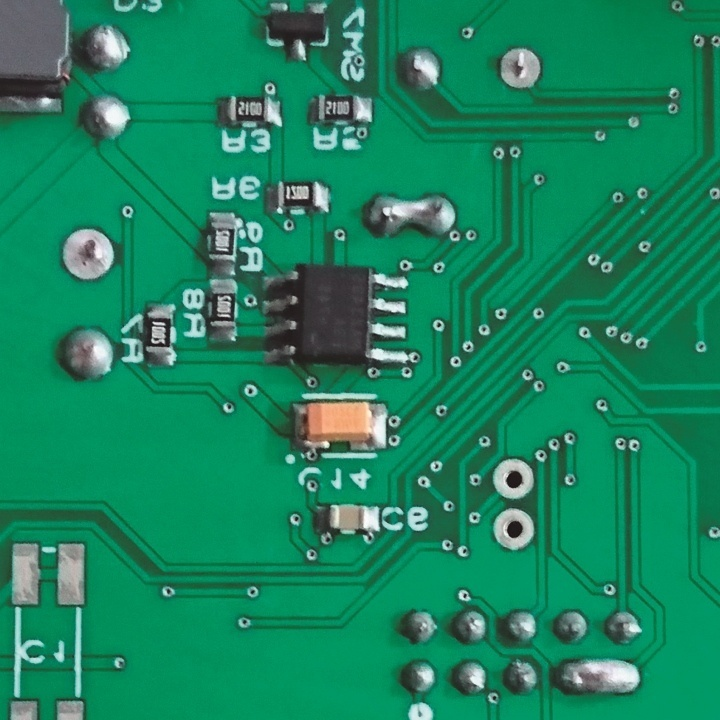F: (59, 225, 117, 285), (495, 44, 546, 92), (490, 507, 538, 556), (491, 455, 539, 502)
P: (364, 189, 455, 239), (557, 655, 644, 704)
